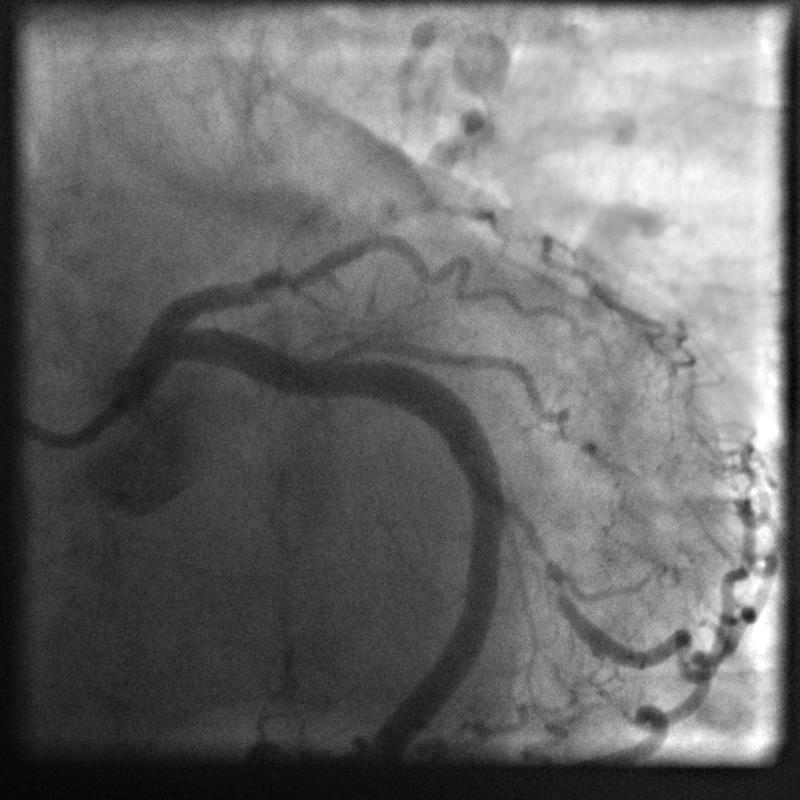Stenosis: (493, 469, 582, 604)
